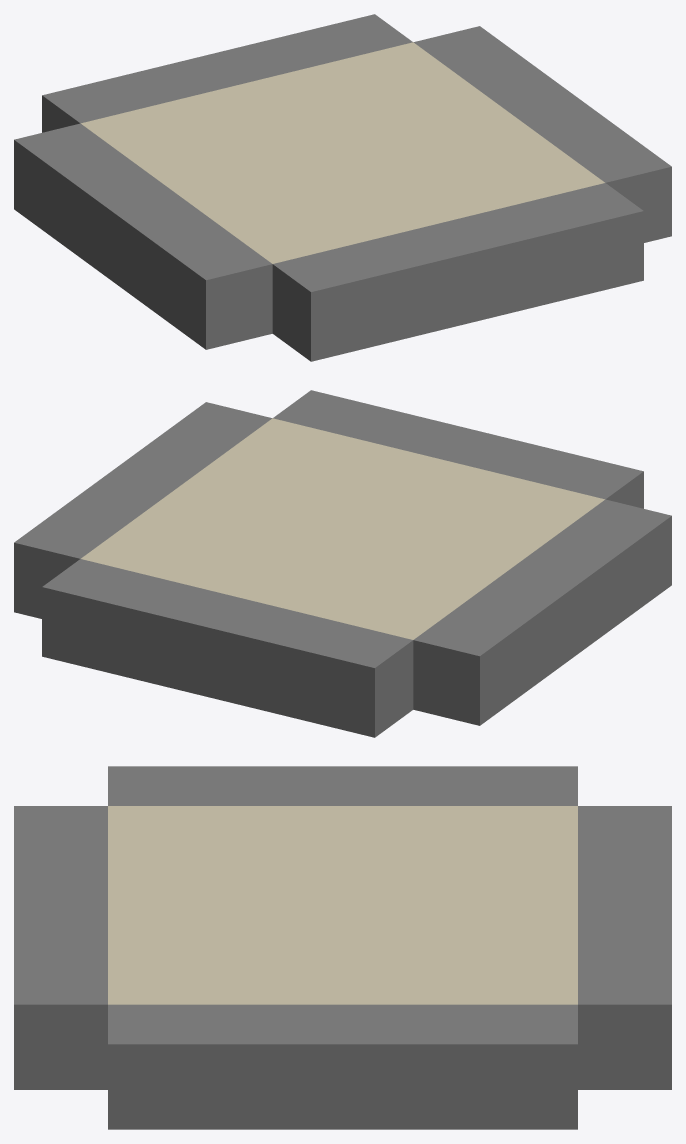
File: Picnic_Set-2.obj
3 views of the same model, one above another, from view 1: azimuth 30°, elevation 25°; view 2: azimuth 150°, elevation 25°; view 3: azimuth 270°, elevation 25° (orthographic). The views are drawn at different scales.
Size of the model in its own units: 0.7 by 0.1 by 0.7.
1 material, 1 textured.
